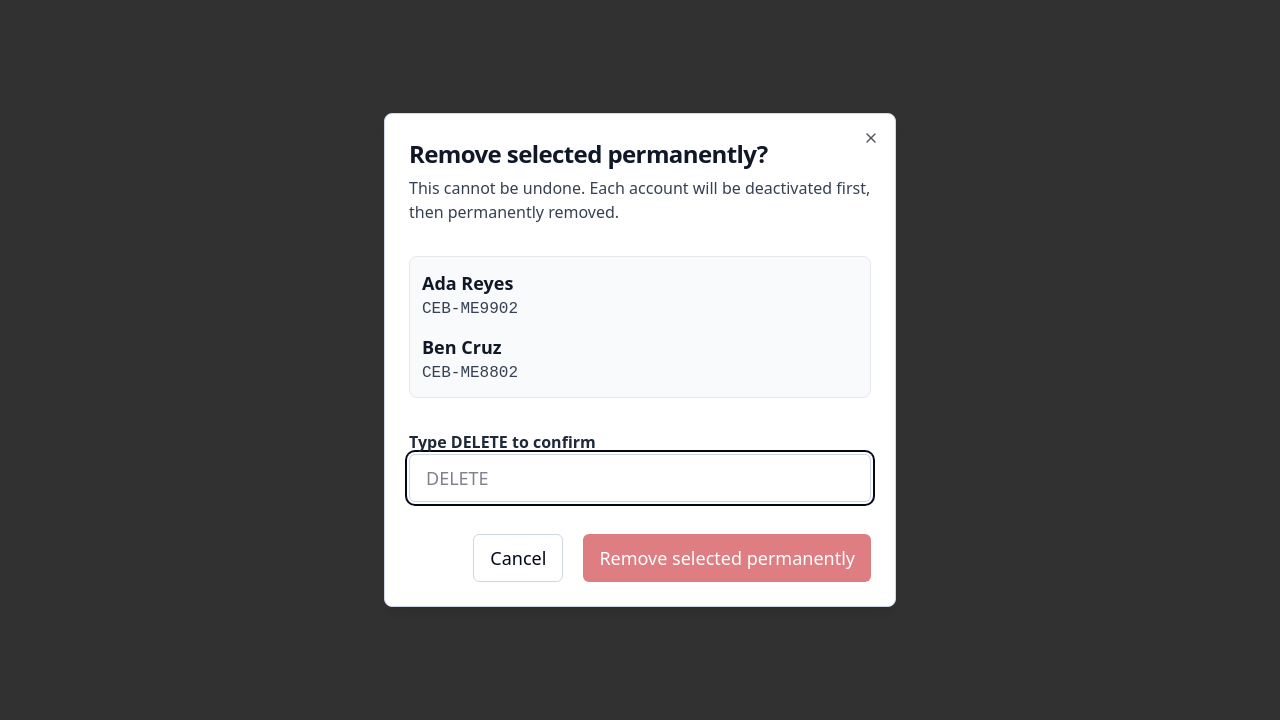
it: BulkPermanentDeleteDialog › lists every name and community ID and requires DELETE before running
Expected: the text "Ada Reyes" is shown, [422,271,513,295]
Expected: the text "CEB-ME9902" is shown, [422,300,518,318]
Type "delete" into the field labelled "Type DELETE to confirm".
click(640, 478); type("delete")  # box [409,454,871,502]
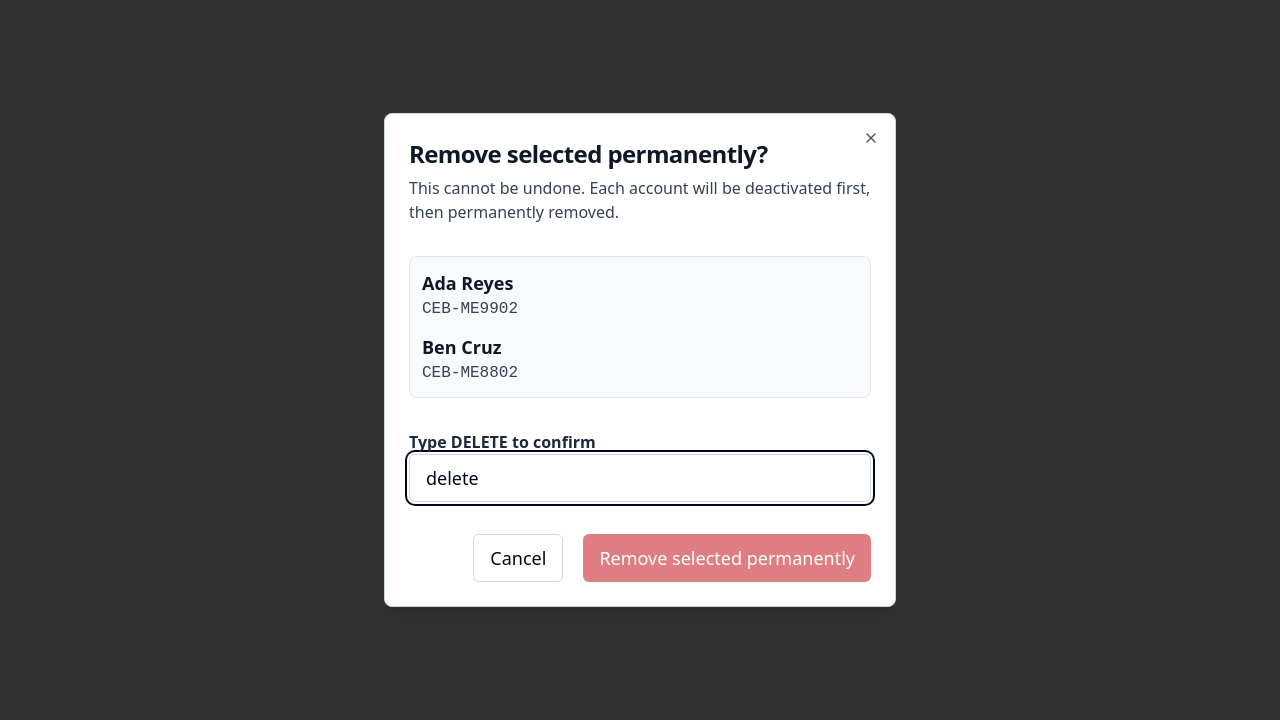
Expected: the button "Remove selected permanently" is disabled, [583,534,871,582]
Replace the text in the field labelled "Type DELETE to confirm" with "DELETE" at x=640, y=478, box [409,454,871,502]
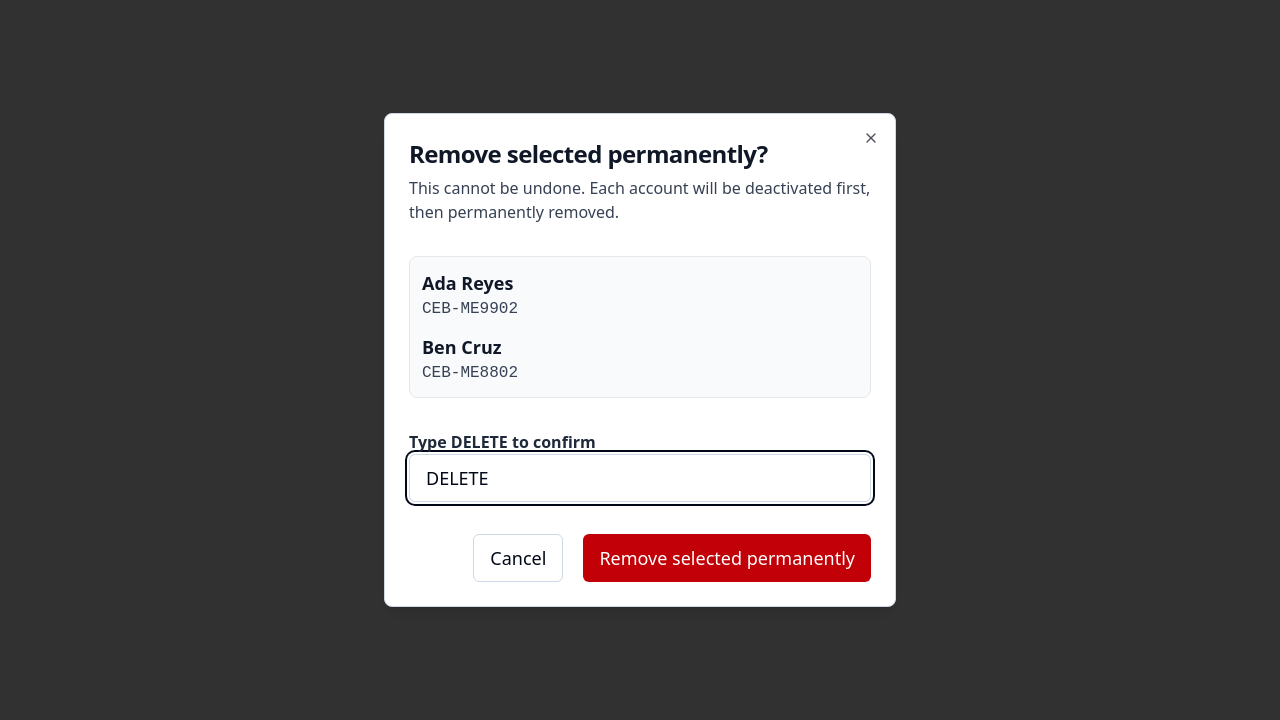
Result: the button "Remove selected permanently" is enabled
Click the button "Remove selected permanently".
click(727, 558)  # box [583,534,871,582]
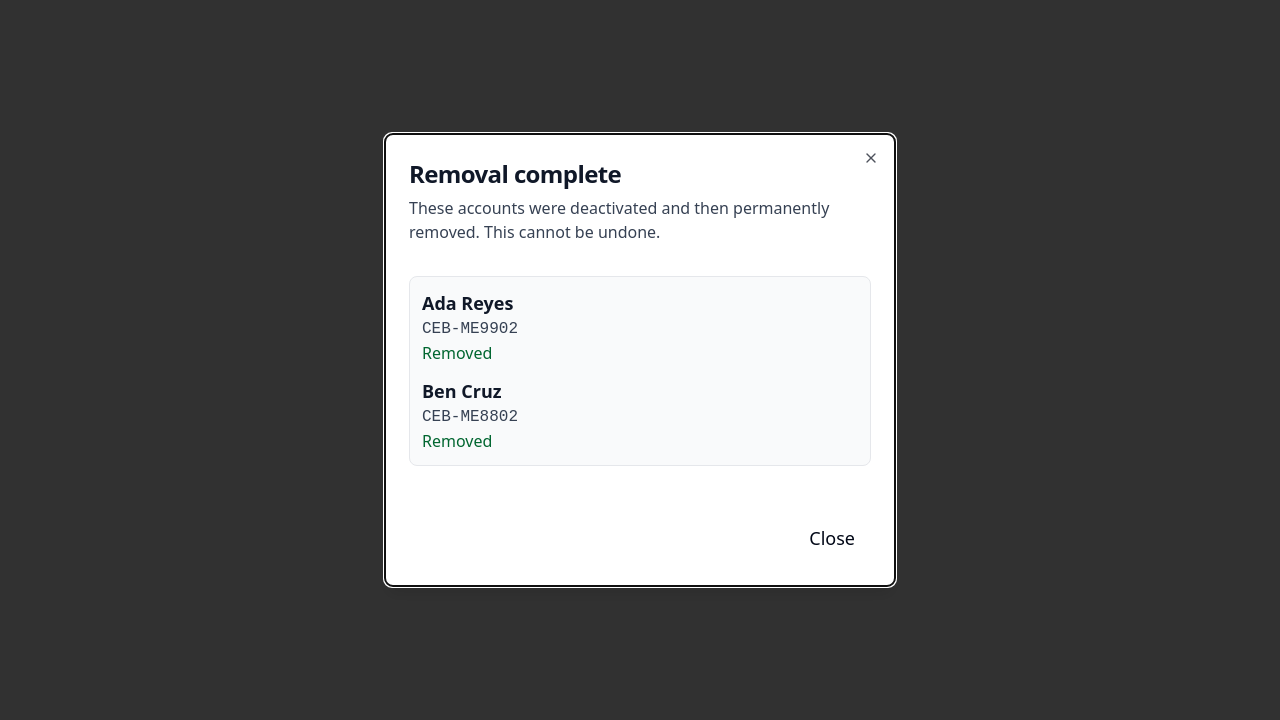
Result: the heading "Removal complete" is shown at [409,157,621,190]
Result: the text "Removed" is shown 2 times at [422,342,492,364]; [422,430,492,452]
